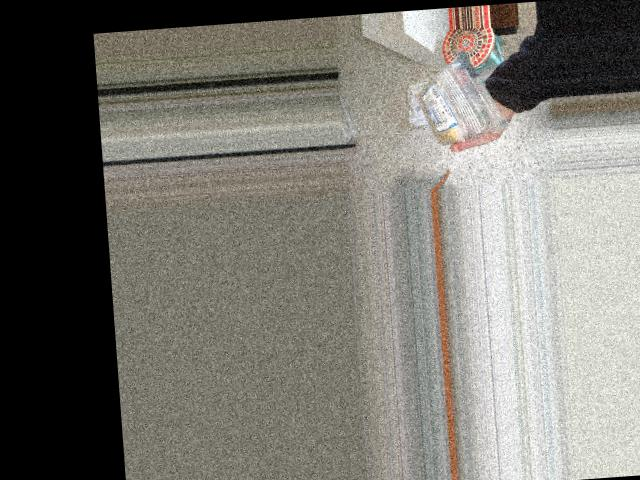cheese: (397, 43, 509, 145)
